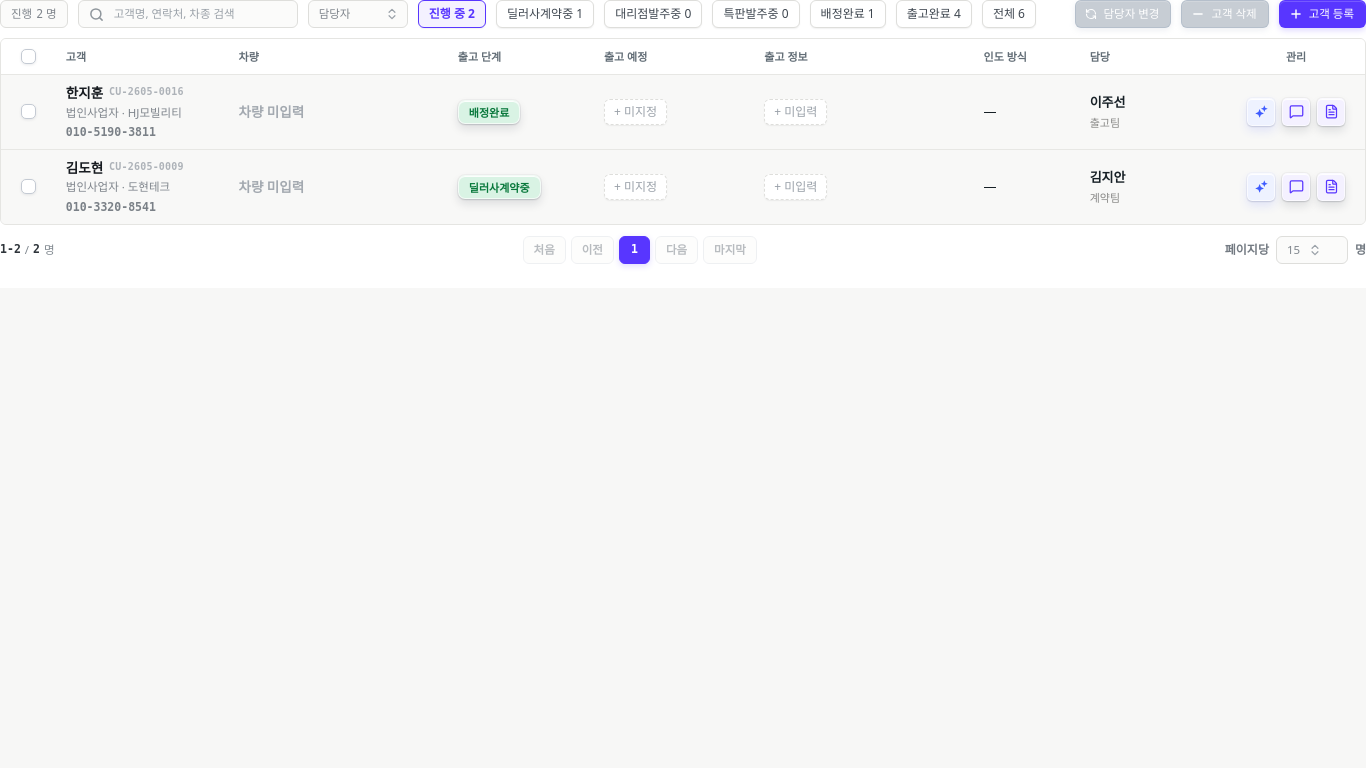
Test: 출고 관리(delivery) 콘솔 › 스크롤이 나면 출고 예정 팝오버를 닫는다(fixed는 앵커를 따라가지 않음)
Step 1. Click the button with aria-label "출고 예정" → (636, 112), box [604,99,667,125]
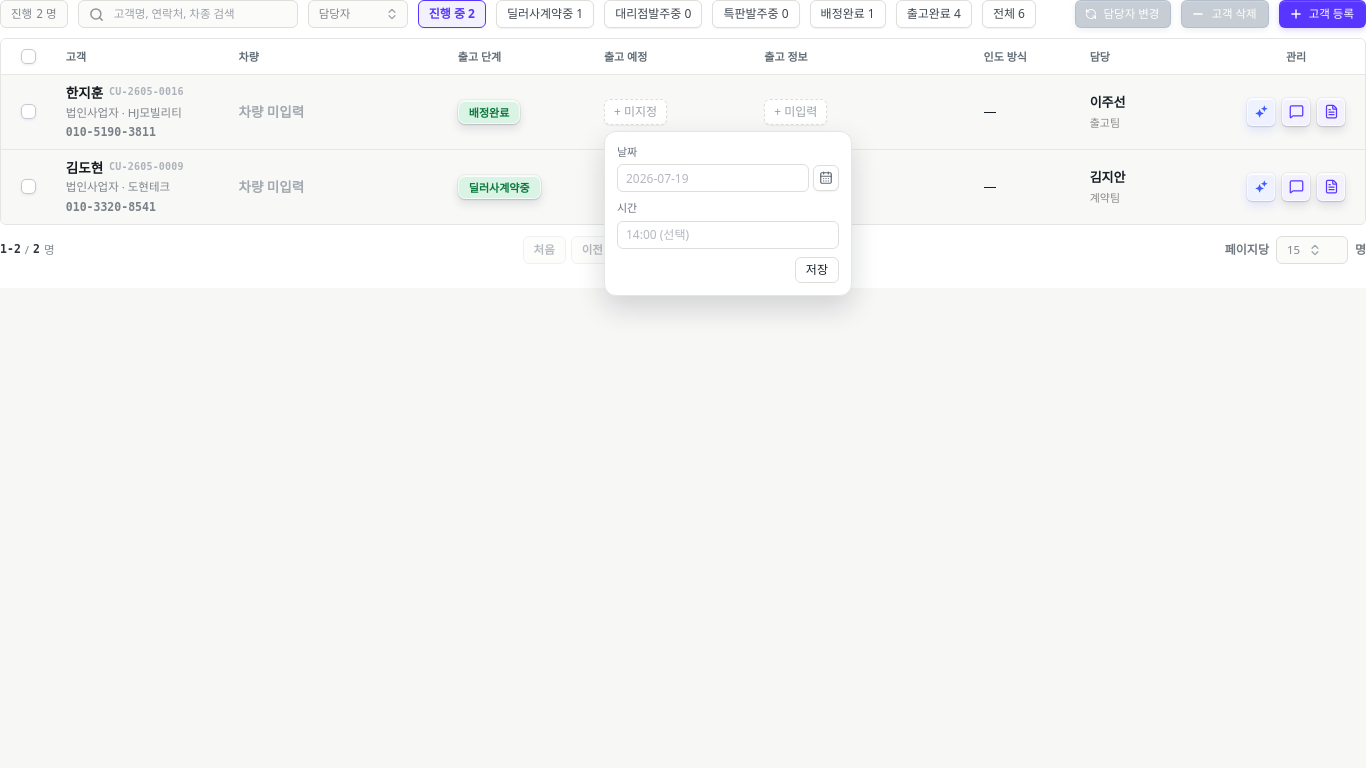
Result: the dialog named "출고 예정 편집" is shown at [604,131,852,296]
